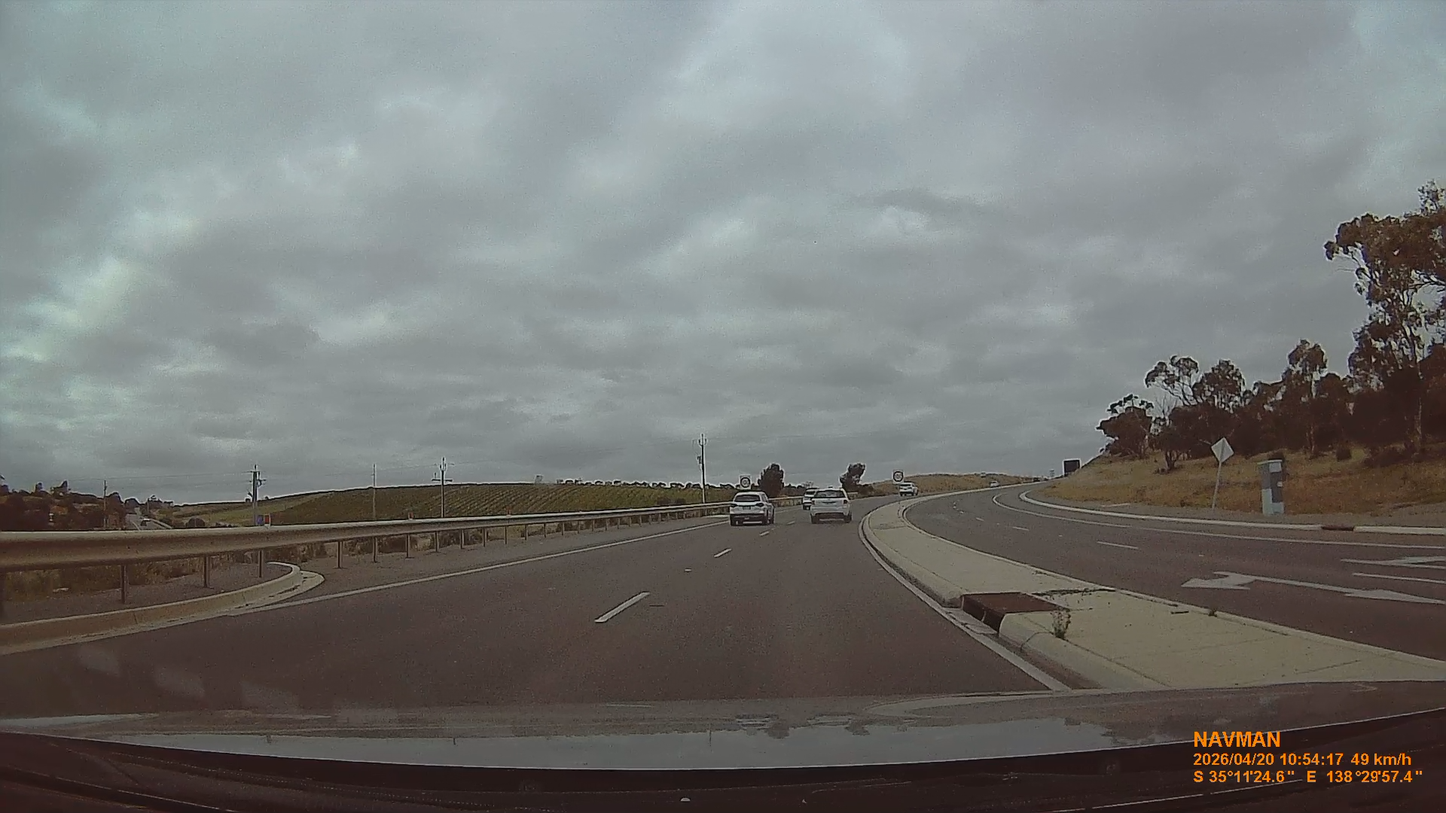road barriers: (0, 508, 701, 571)
